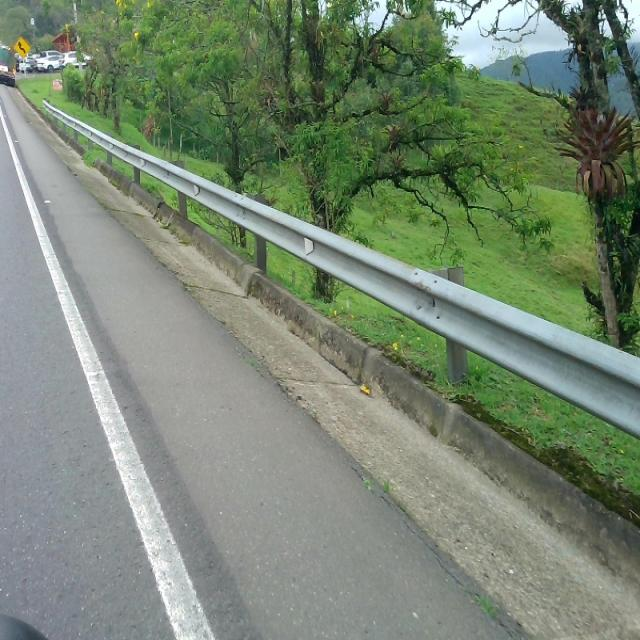DITCH: (4, 81, 638, 638)
